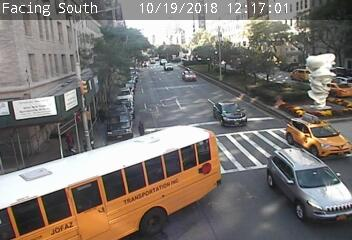carw: (266, 149, 352, 220), (287, 113, 352, 156), (213, 100, 249, 128), (182, 68, 198, 81), (163, 63, 174, 71)
